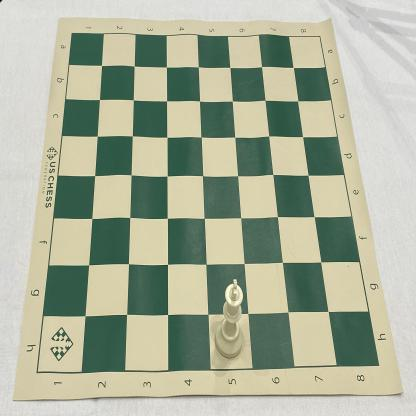white-king: (214, 279, 244, 360)
